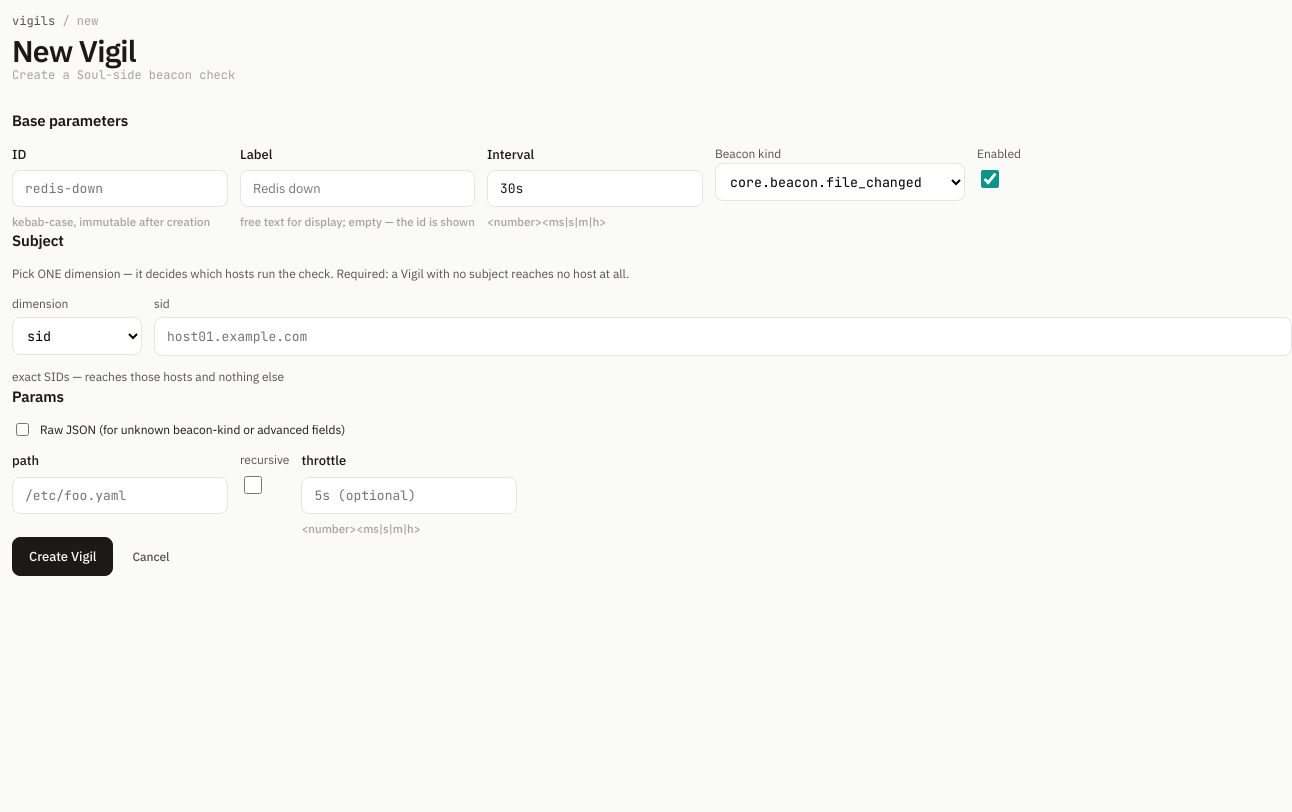
it: VigilNewForm › a subject is required: submitting with an empty one sends nothing
This screenshot has width=1292, height=812.
Step 1. Type "config-changed" into the field labelled "ID kebab-case, immutable after creation" → (120, 188), box [12, 170, 228, 207]
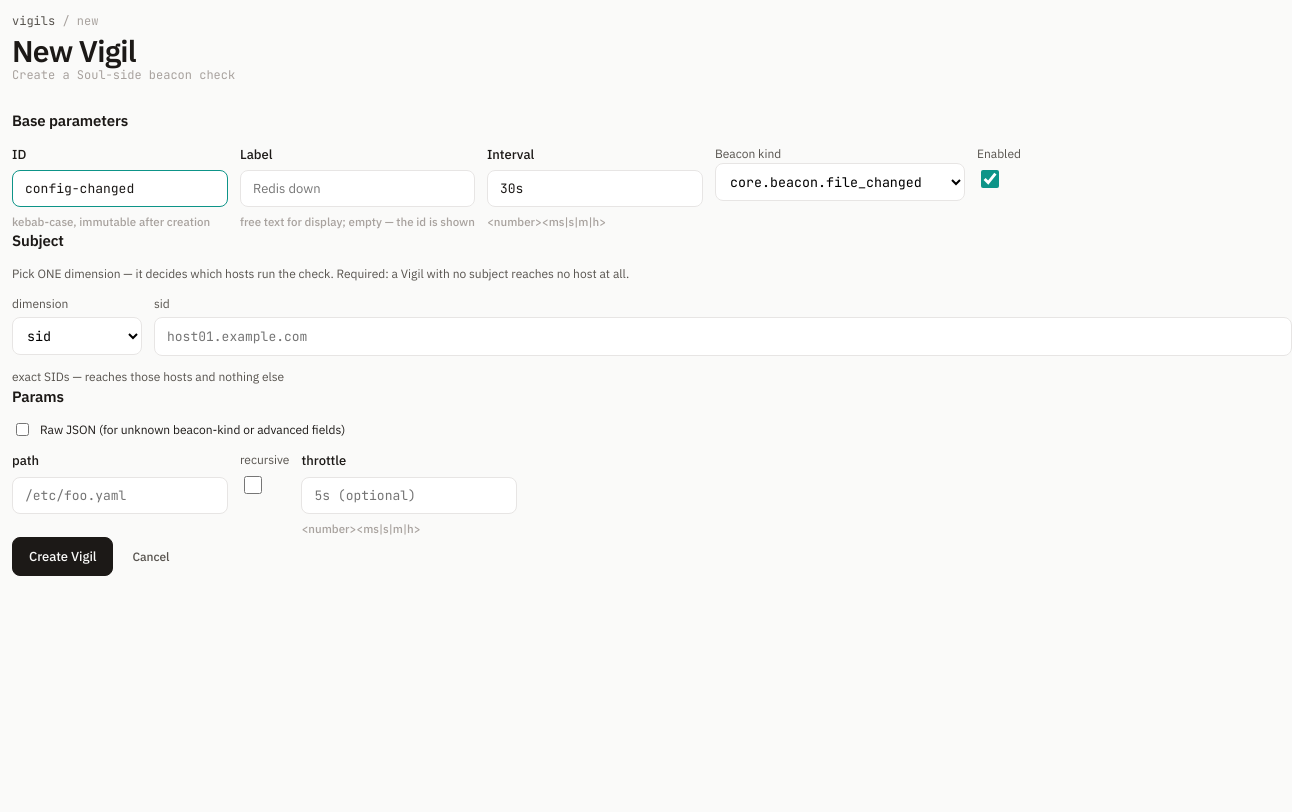
Step 2. Type "/etc/redis.conf" into the field labelled "path" → (120, 495), box [12, 477, 228, 514]
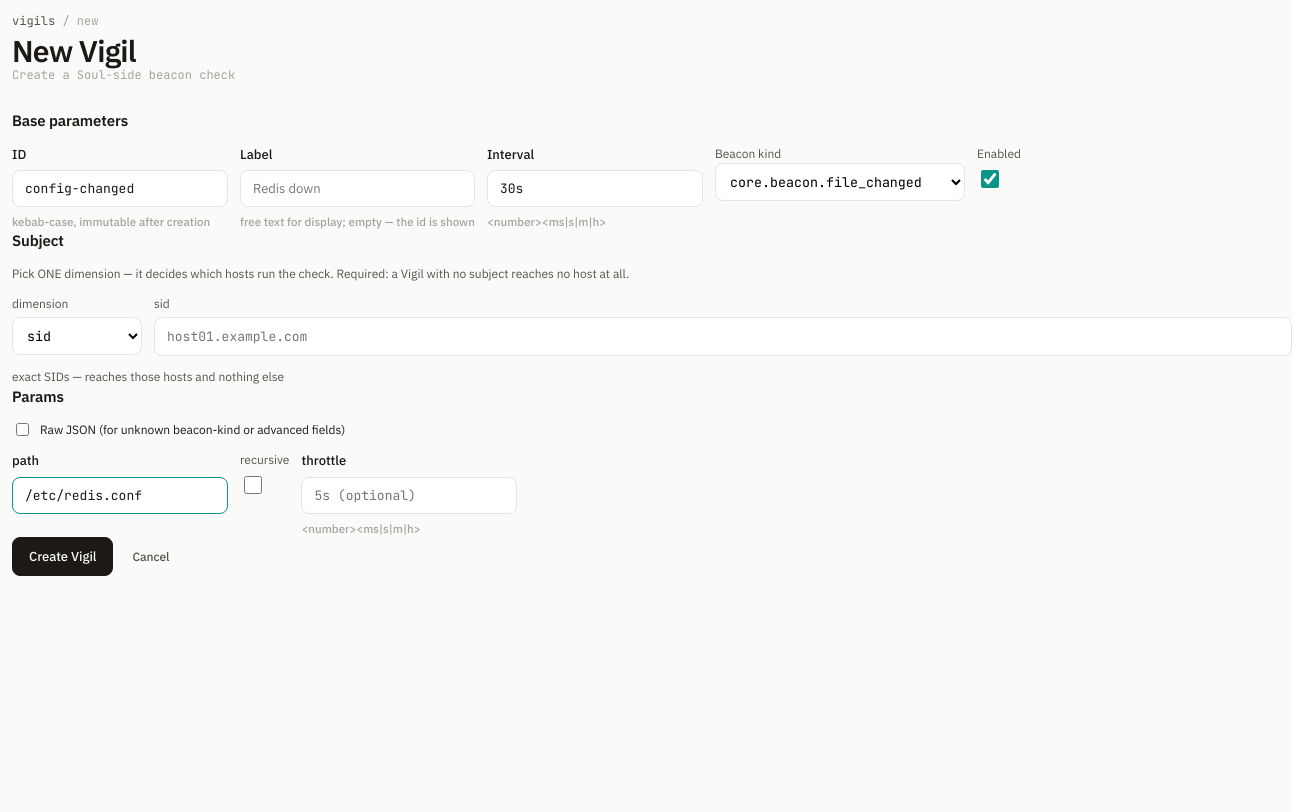
Step 3. Click the button "Create Vigil" → (63, 556), box [12, 537, 113, 576]
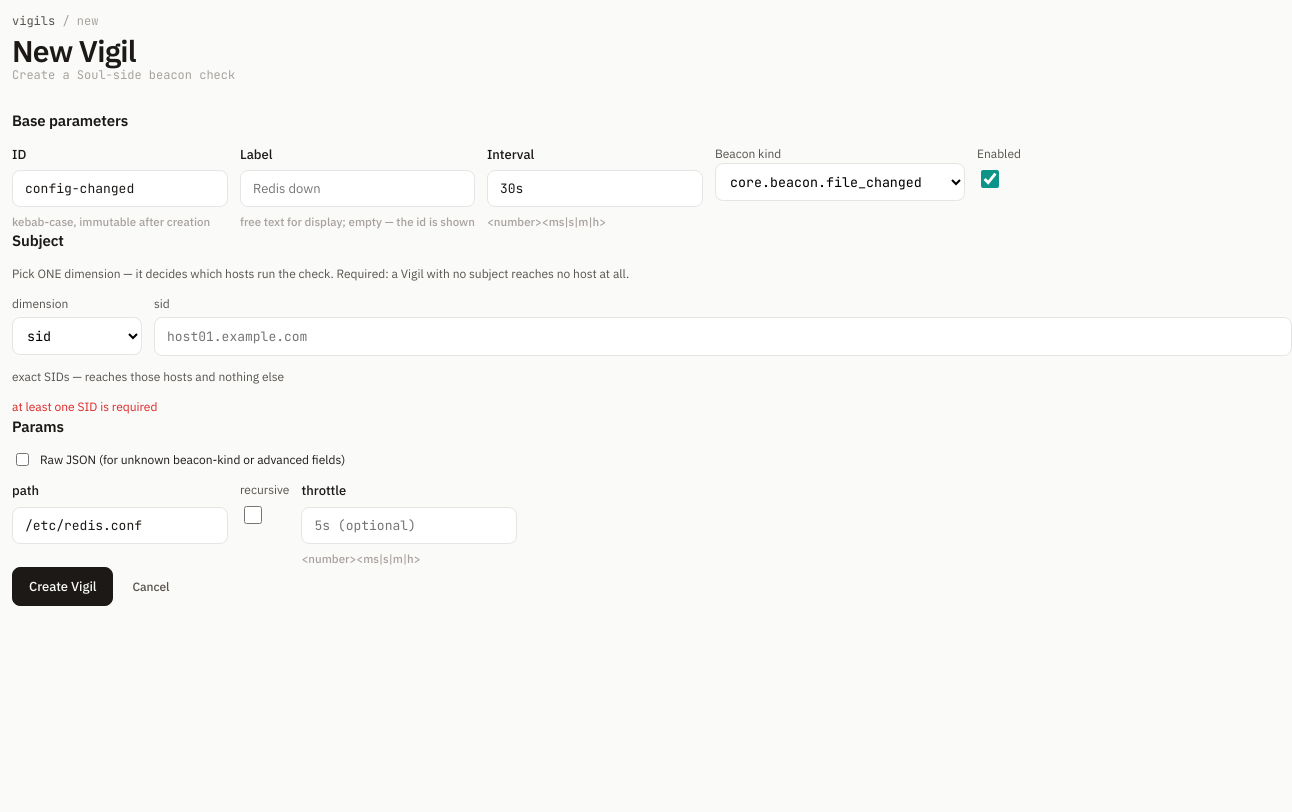
Now the text "at least one SID is required" is shown, box [12, 399, 157, 414]
